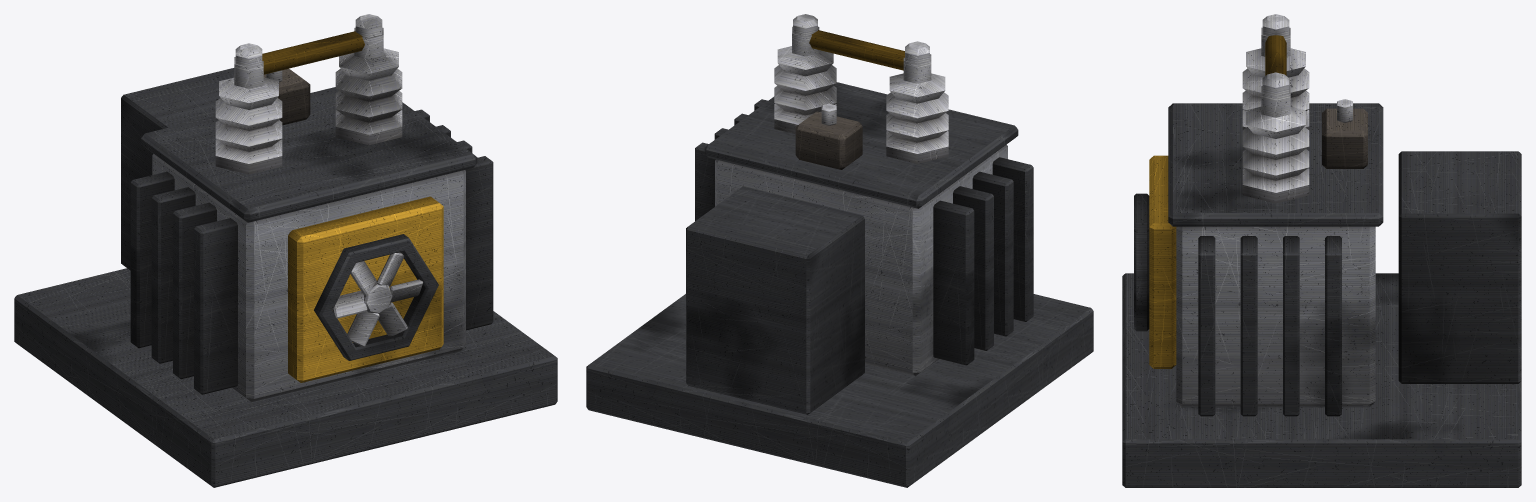
File: R4X_Battery_LOD1.glb
The picture shows the model from 3 angles, left to right: view 1: azimuth 30°, elevation 25°; view 2: azimuth 150°, elevation 25°; view 3: azimuth 270°, elevation 25°; orthographic projection. The views are drawn at different scales.
Visible parts, largest first — view 1: R4X_Battery_LOD1; view 2: R4X_Battery_LOD1; view 3: R4X_Battery_LOD1.
Part boxes in pixels (left/top/right/bottom): R4X_Battery_LOD1: left=14, top=14, right=557, bottom=487; R4X_Battery_LOD1: left=586, top=14, right=1093, bottom=487; R4X_Battery_LOD1: left=1122, top=14, right=1521, bottom=487.
Size of the model in its own units: 0.52 by 0.514 by 0.52.
5 materials, 5 textured.
